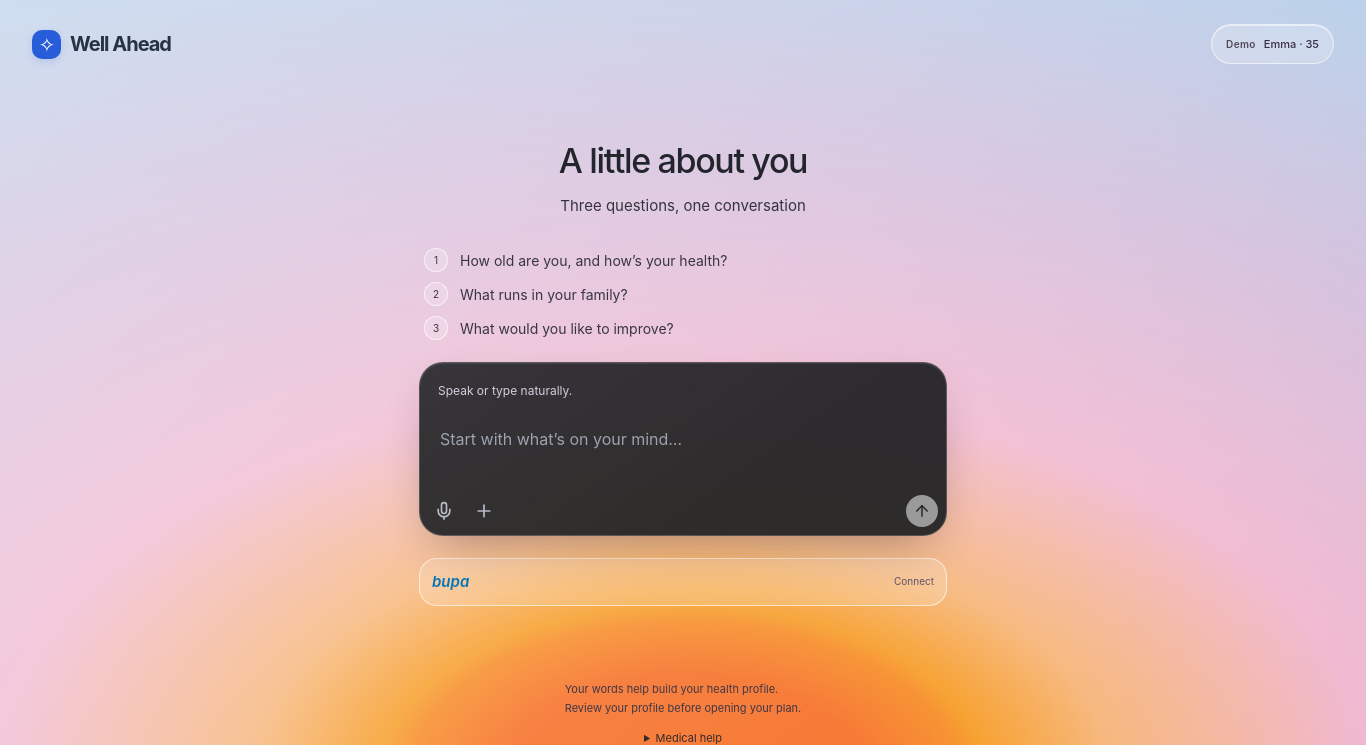
Test: leaving a pending cached example cancels its timer and restores the user draft
The image size is (1366, 745).
In the text box: (683, 452) left=428, top=417, right=938, bottom=487, type "My own draft."
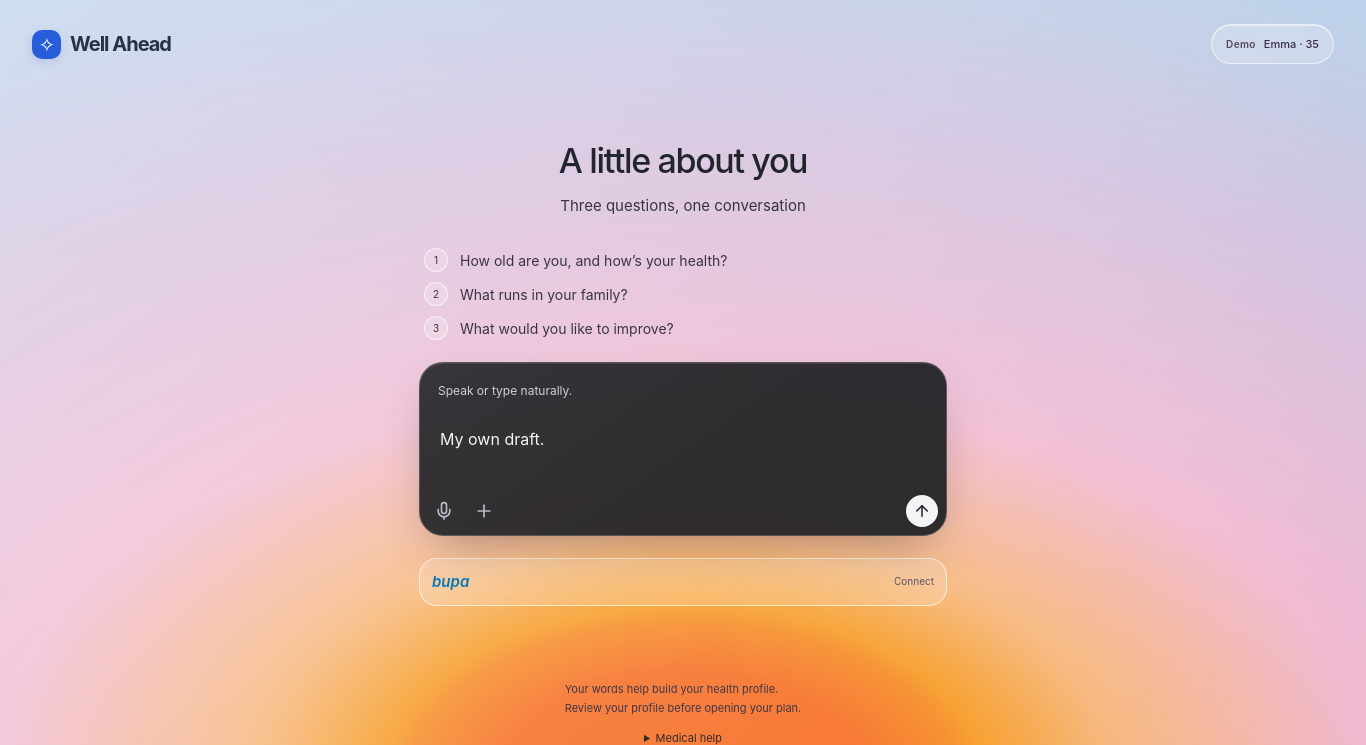
Click the button with aria-label "Emma demo, age 35": click(1272, 44) left=1211, top=24, right=1334, bottom=64
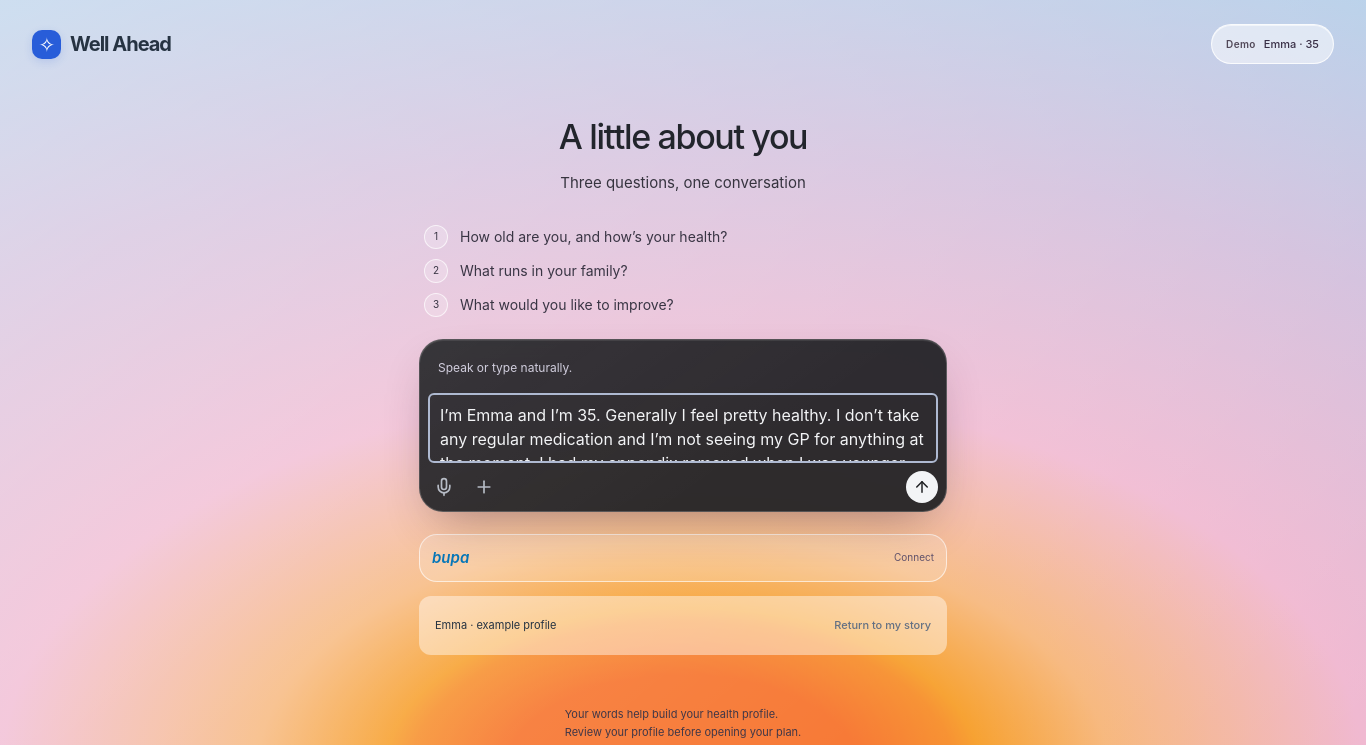
Click the button named "Review my health profile": click(922, 487) left=906, top=471, right=938, bottom=503
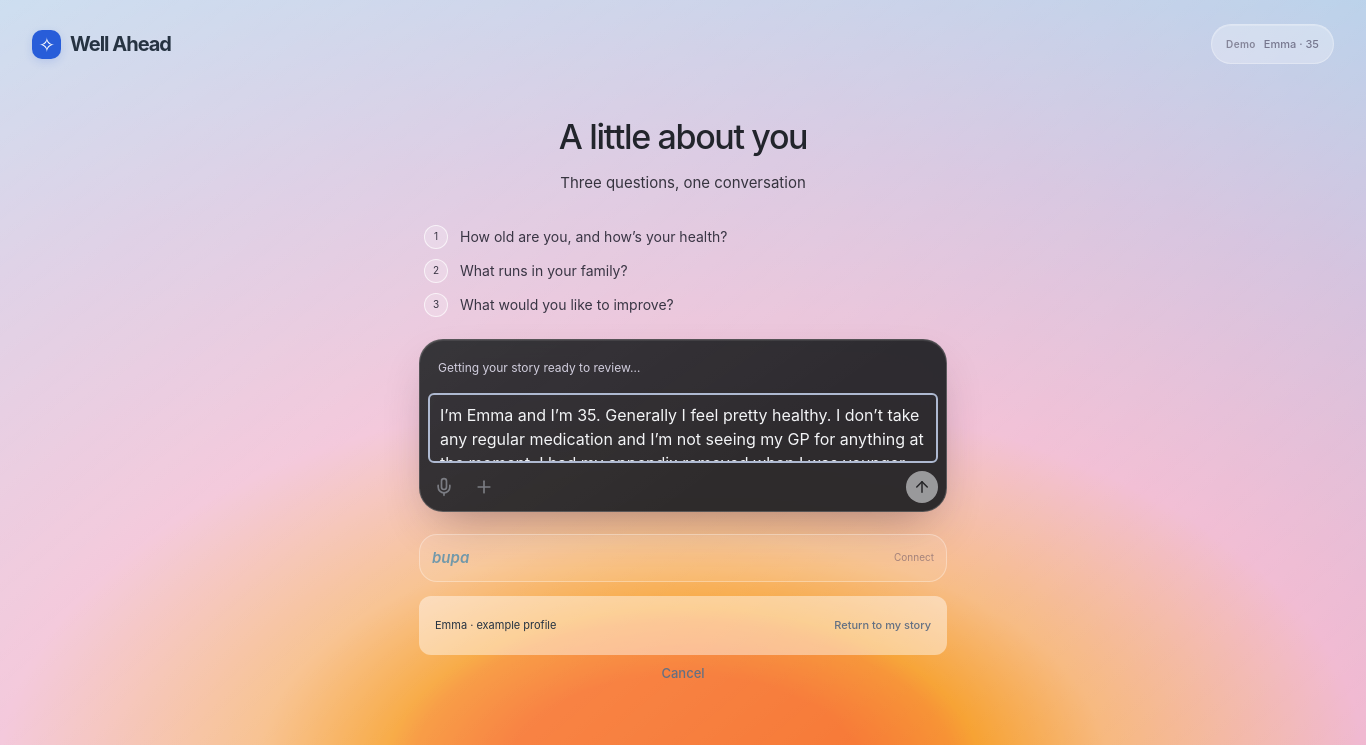
Result: the button with aria-label "Emma demo, age 35" is disabled at left=1211, top=24, right=1334, bottom=64
Click the button "Return to my story": click(883, 625) left=834, top=608, right=931, bottom=643
Wait 3000 ms
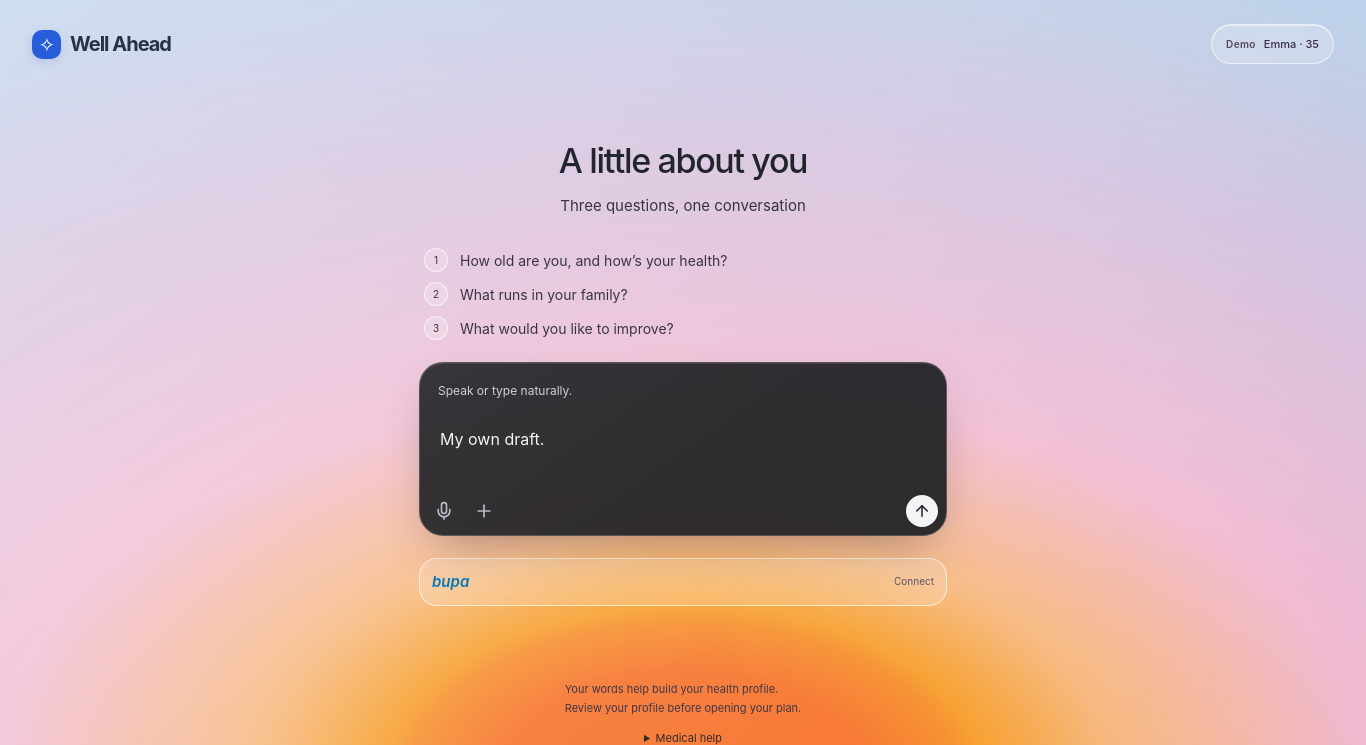
Result: the button named "Review my health profile" is enabled at left=906, top=495, right=938, bottom=527
Result: the text box holds "My own draft." at left=428, top=417, right=938, bottom=487
